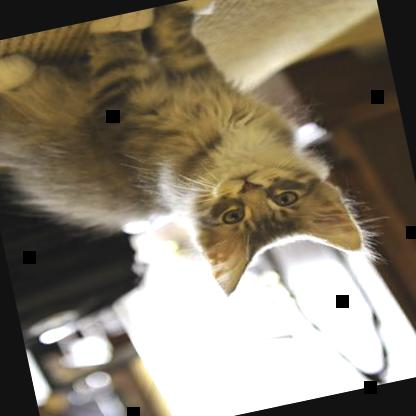cat: (0, 0, 375, 339)
